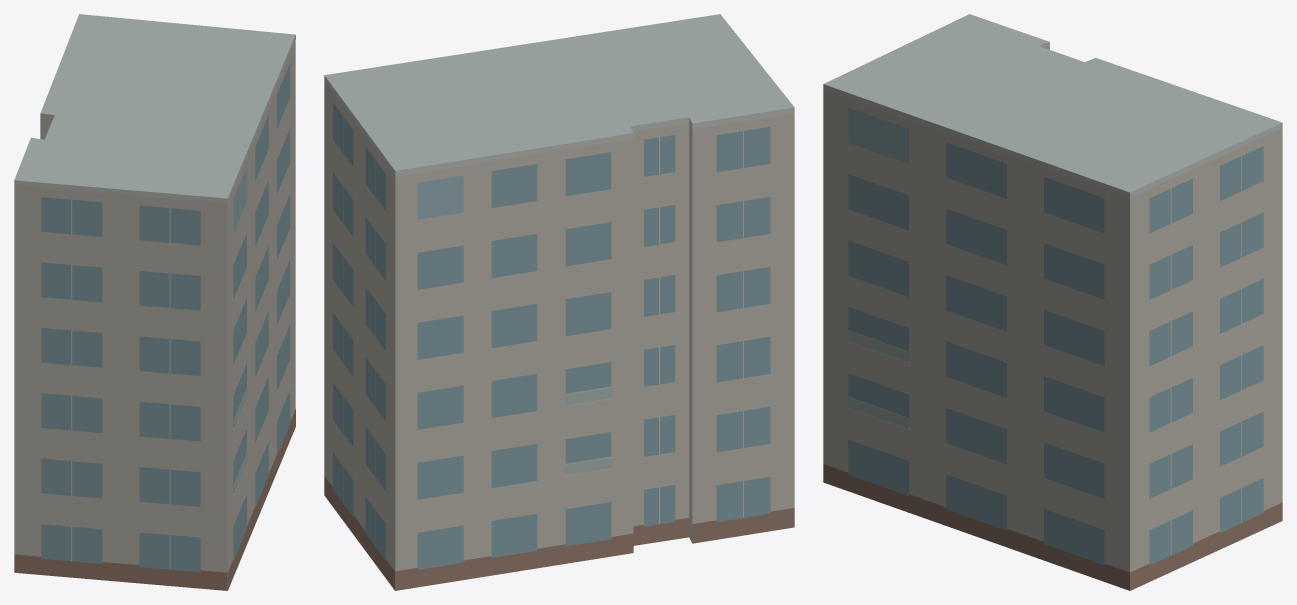
The model's file is survey-upis-32672173.glb.
3 renders of one model, left to right at view 1: azimuth 30°, elevation 25°; view 2: azimuth 150°, elevation 25°; view 3: azimuth 270°, elevation 25°, orthographic. The views are drawn at different scales.
Parts seen in each view (by area): view 1: survey-upis-32672173.tmp; view 2: survey-upis-32672173.tmp; view 3: survey-upis-32672173.tmp.
Boxes of the visible parts, <box> form: survey-upis-32672173.tmp: <box>14,14,295,590</box>; survey-upis-32672173.tmp: <box>324,14,794,590</box>; survey-upis-32672173.tmp: <box>823,14,1282,590</box>.
Bounding box in the file's own units: 17.41 × 18.1 × 18.92.
